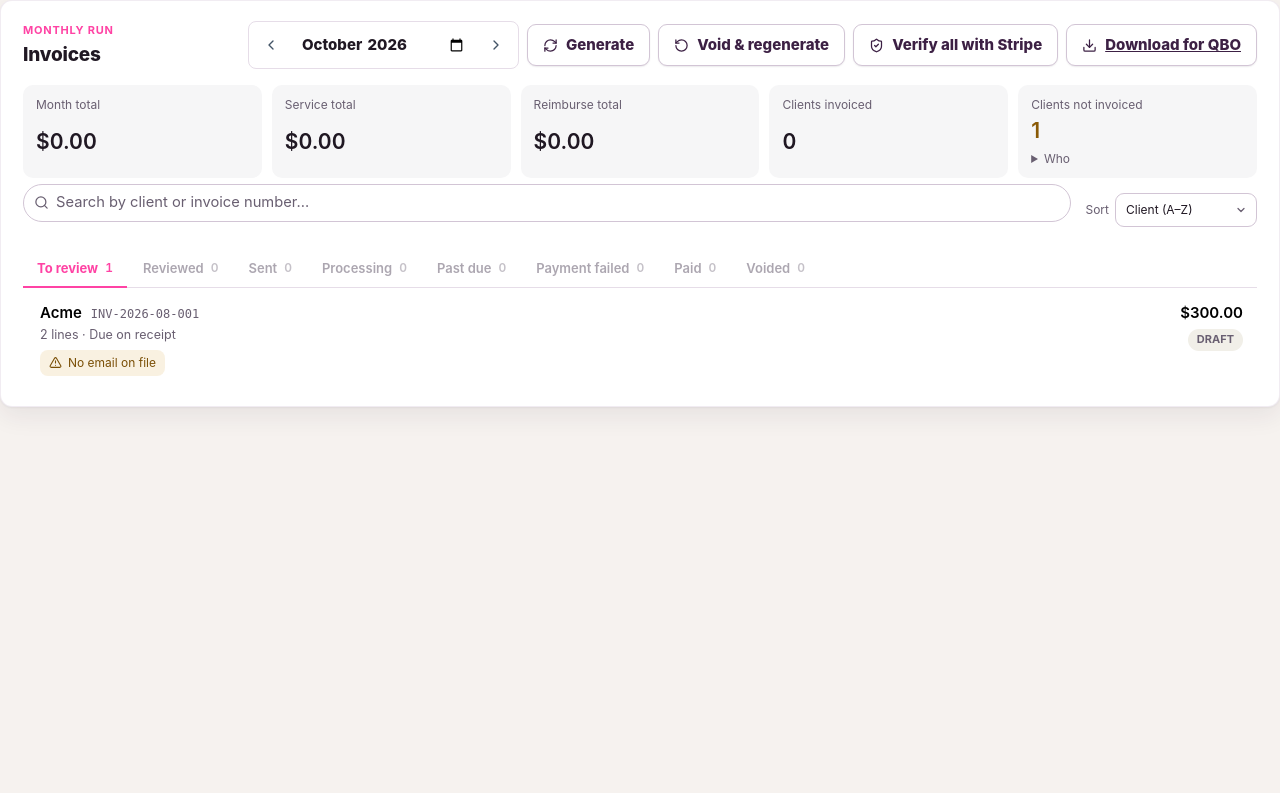
Scenario: InvoiceScopePanel — what it shows › subtotals the person’s hours three ways
Click the text "INV-2026-08-001" at (145, 315), box 91,306 -> 199,324
(page scrolled)
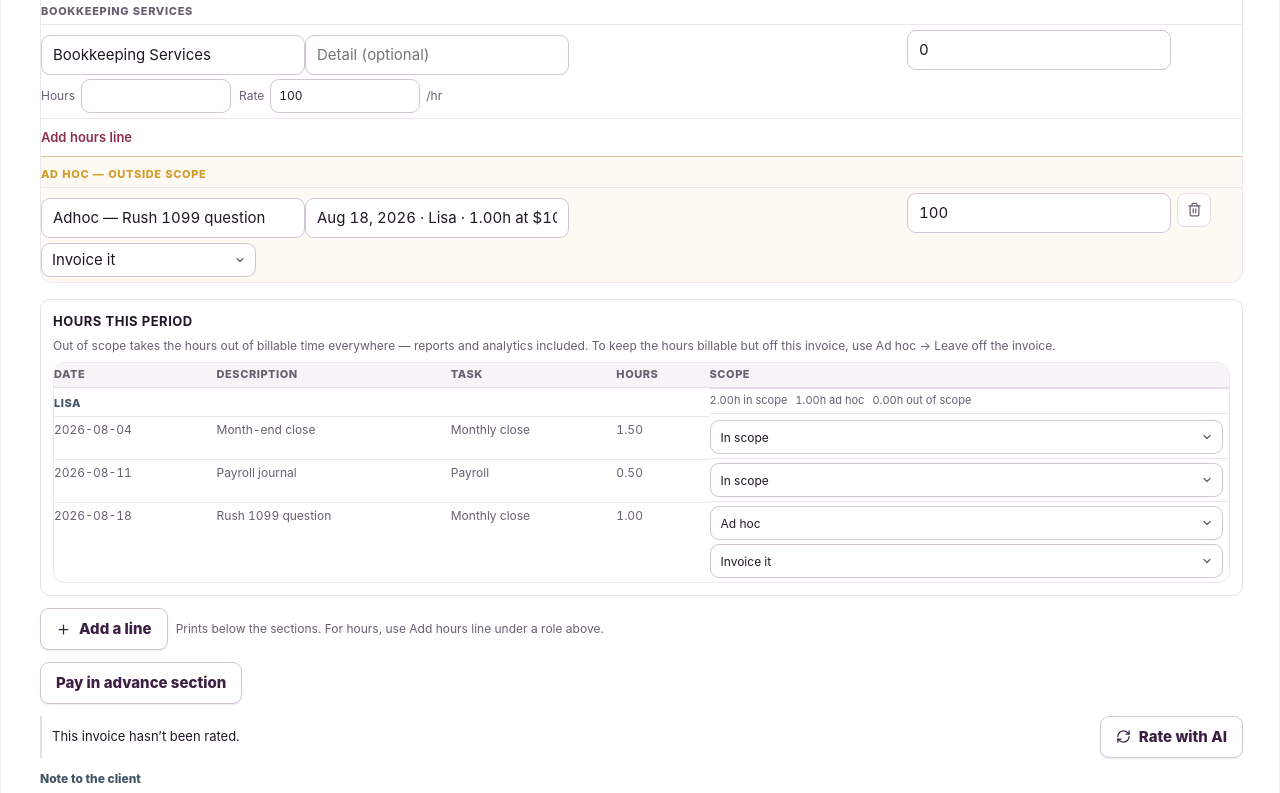
Now the text "2.00h in scope" is shown, box 710,393 -> 787,409
Now the text "1.00h ad hoc" is shown, box 795,393 -> 864,409
Now the text "0.00h out of scope" is shown, box 872,393 -> 971,409
